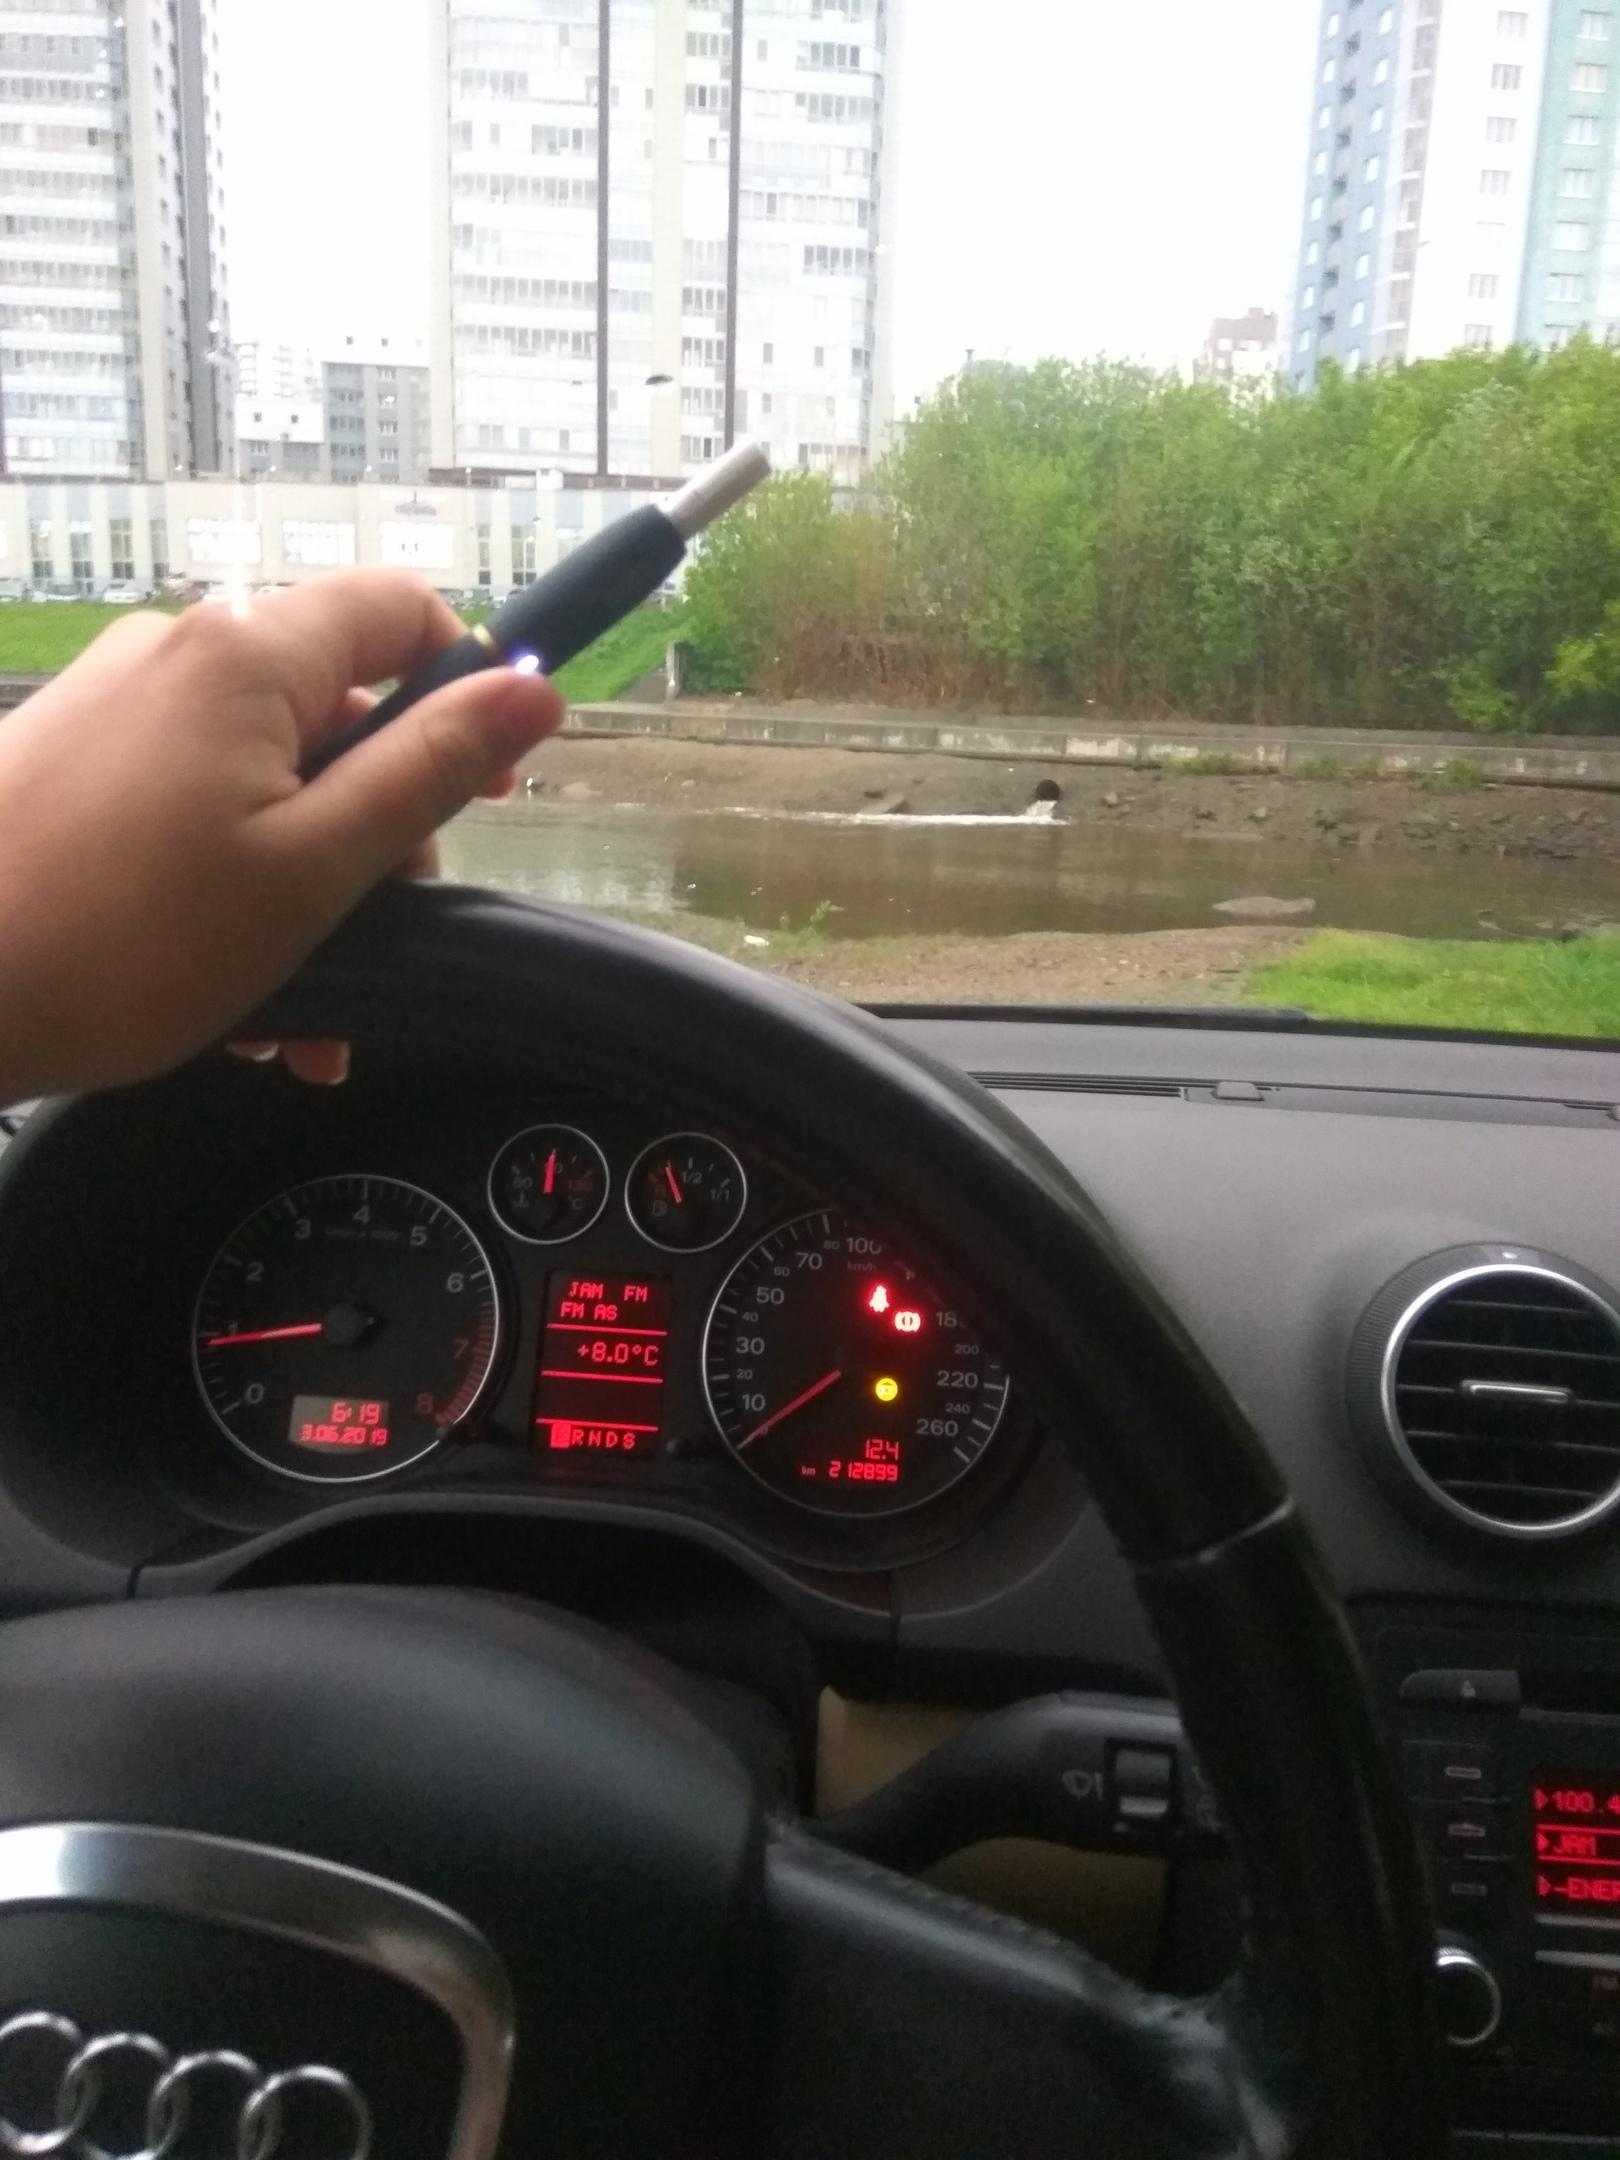iqos: (300, 441, 769, 783)
